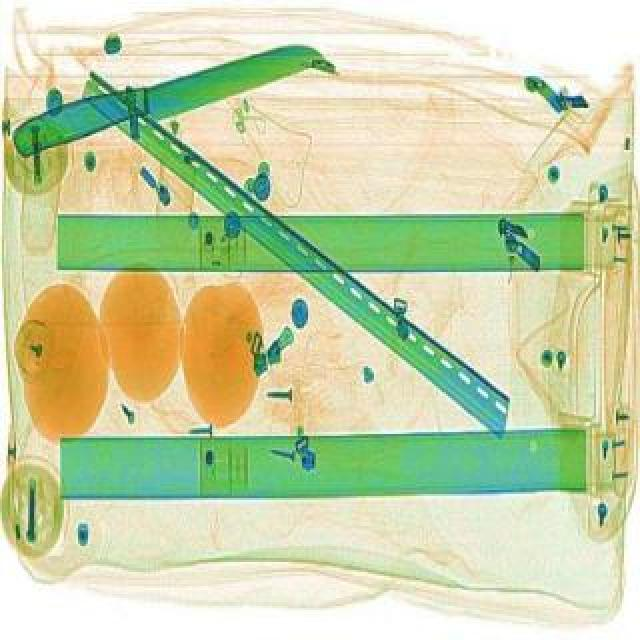knife: (6, 28, 328, 168)
